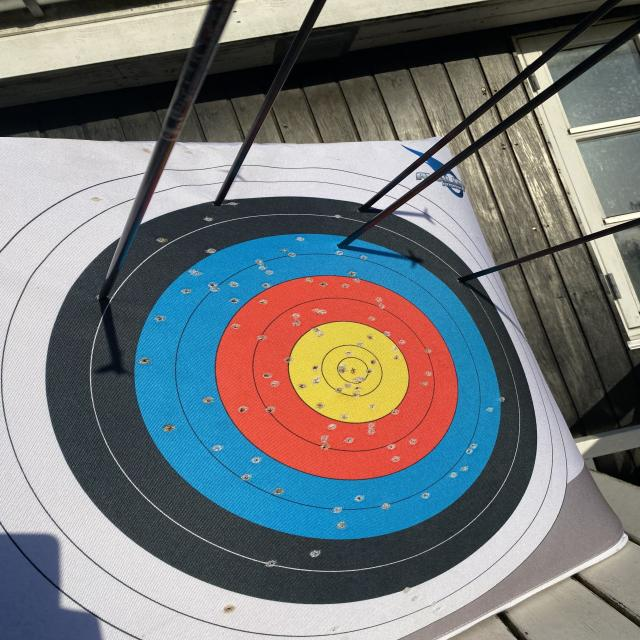Arrow_Black: (80, 285, 148, 309), (446, 264, 480, 296), (351, 192, 377, 220), (211, 193, 238, 216)
Arrow_Blue: (331, 233, 360, 258)
